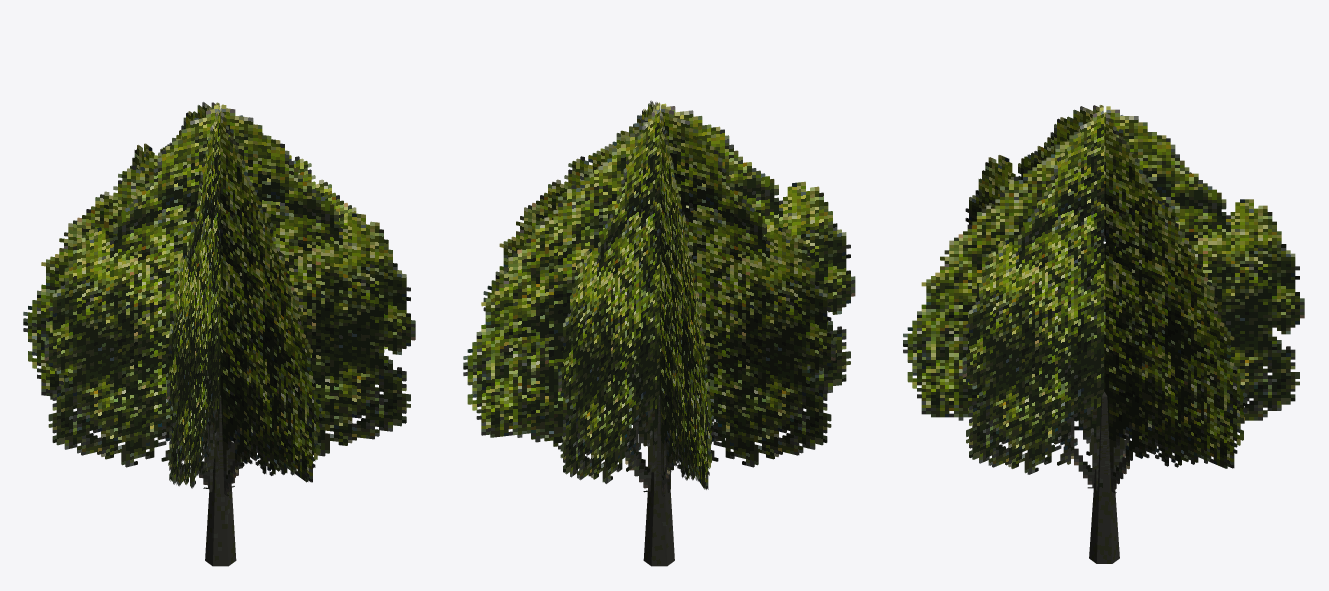
Rendered from tree20.glb.
3 renders of one model, left to right at view 1: azimuth 30°, elevation 25°; view 2: azimuth 150°, elevation 25°; view 3: azimuth 270°, elevation 25°, orthographic.
Parts seen in each view (by area): view 1: tree20; view 2: tree20; view 3: tree20.
Boxes of the visible parts, x1,y1,x2,y2 form: tree20: (23, 102, 415, 566); tree20: (463, 100, 855, 566); tree20: (903, 105, 1304, 563).
Size of the model in its own units: 6.97 by 8.32 by 6.97.
Materials: 1 (1 with a texture image).
